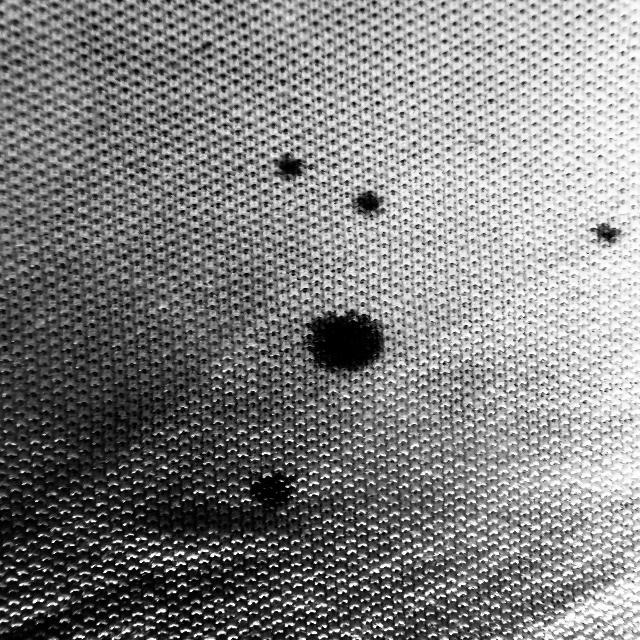Color_defect: (299, 301, 391, 384), (246, 474, 295, 512), (352, 187, 392, 218), (275, 152, 307, 184)
